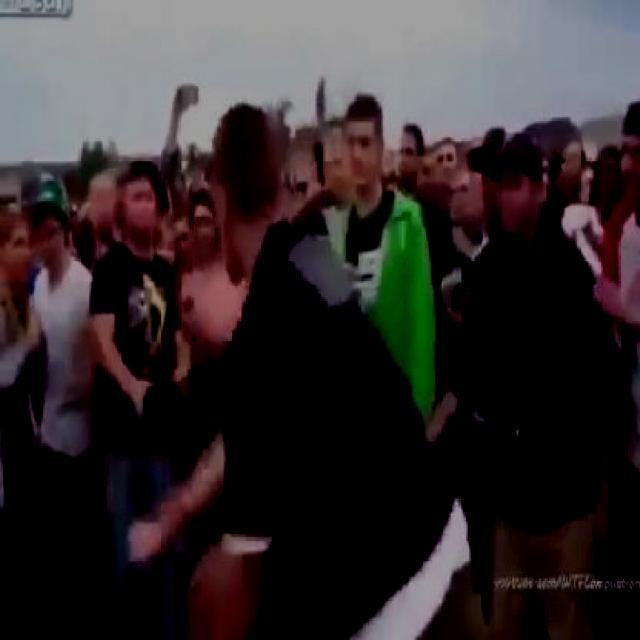fight: (82, 100, 430, 640)
